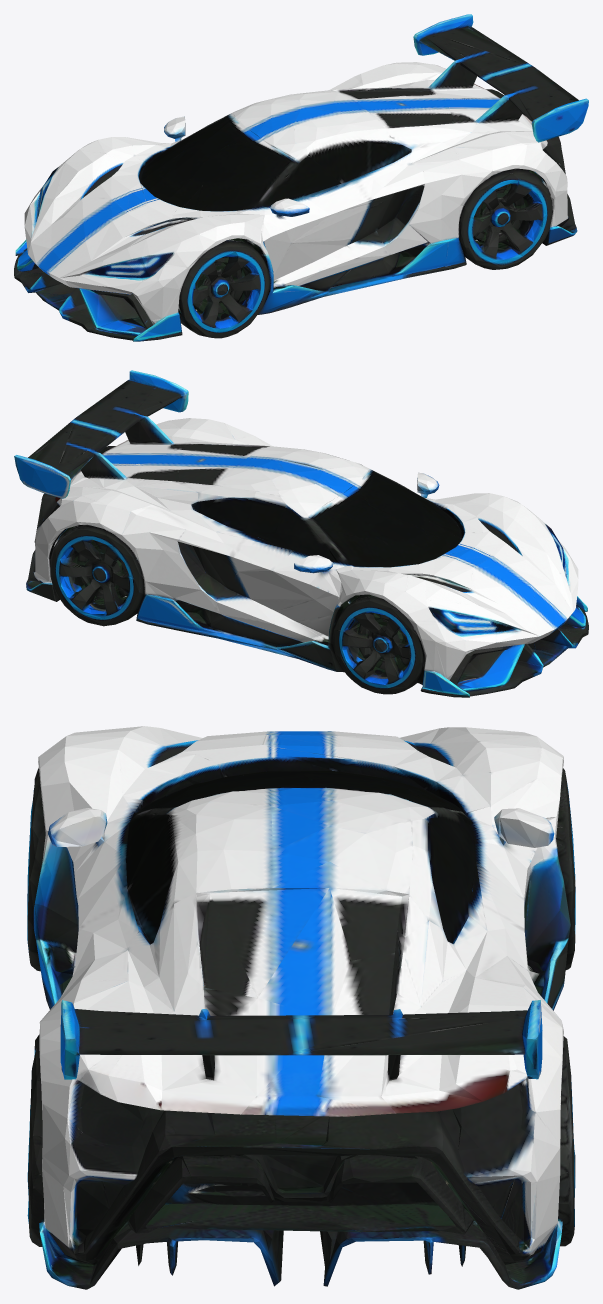
Rendered from hyperion_x.glb.
The picture shows the model from 3 angles, top to bottom: view 1: azimuth 30°, elevation 25°; view 2: azimuth 150°, elevation 25°; view 3: azimuth 270°, elevation 25°; orthographic projection. The views are drawn at different scales.
Visible parts, largest first — view 1: geometry_0; view 2: geometry_0; view 3: geometry_0.
Part boxes in pixels (x1,y1,x2,y2): geometry_0: (14, 14, 588, 341); geometry_0: (14, 370, 588, 697); geometry_0: (27, 726, 575, 1289).
Size of the model in its own units: 1.9 by 0.5282 by 0.9143.
Materials: 1 (1 with a texture image).
